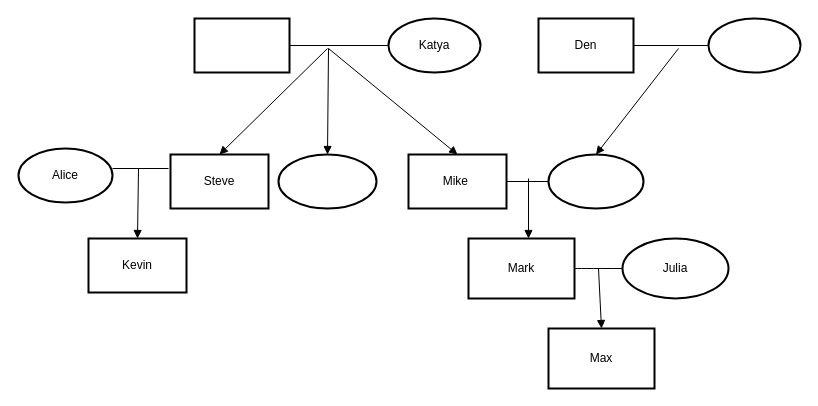
Some shapes in this 818 by 406 pixel diagram are drawn without their labels. The box of each missing label's shape, as (x1, y1, x2, y2) in pixels:
Dasha: (547, 153, 644, 209)
Liza: (707, 17, 801, 73)
Sarah: (277, 153, 377, 209)
Vova: (193, 17, 290, 73)
